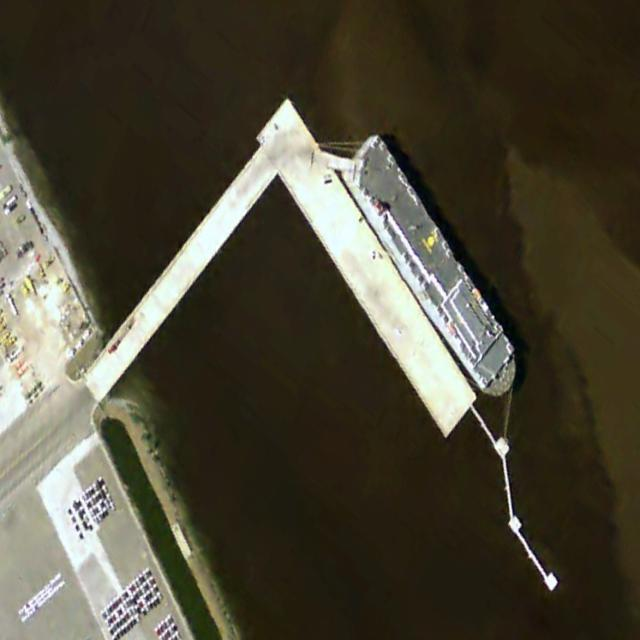RoRo: (338, 127, 526, 412)
